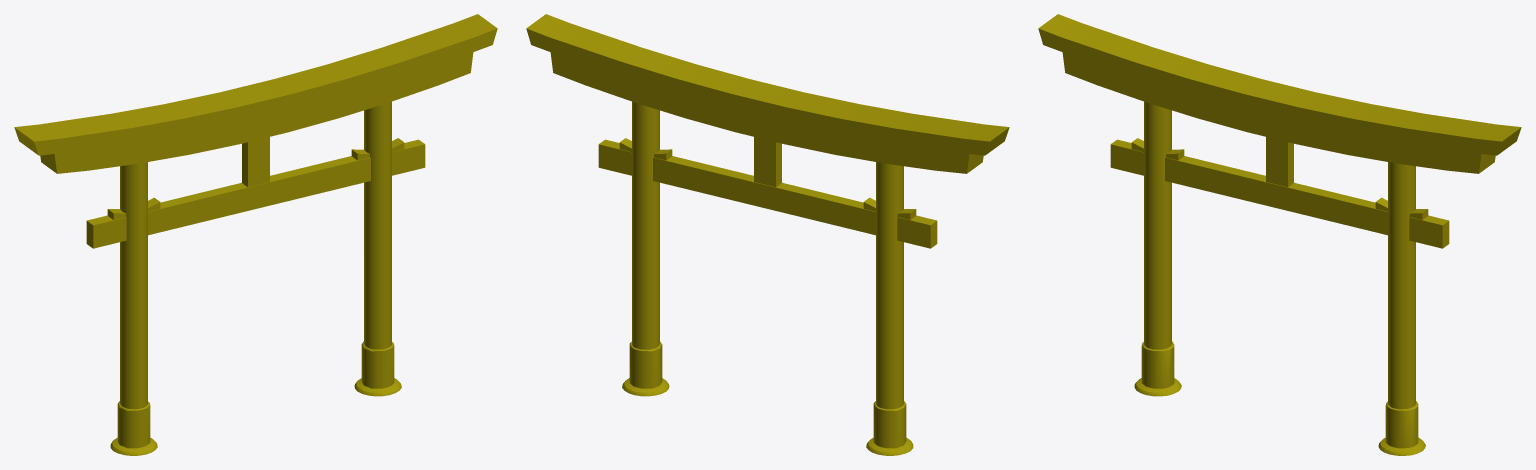
File: tori_gate.fbx
3 views of the same model, side by side, from view 1: azimuth 30°, elevation 25°; view 2: azimuth 150°, elevation 25°; view 3: azimuth 330°, elevation 25° (orthographic).
Visible parts, largest first — view 1: Finish; view 2: Finish; view 3: Finish.
Boxes of the visible parts, x1,y1,x2,y2 form: Finish: [14, 14, 497, 455]; Finish: [526, 14, 1009, 455]; Finish: [1038, 14, 1521, 455].
Size of the model in its own units: 11.29 by 7.88 by 0.9928.
